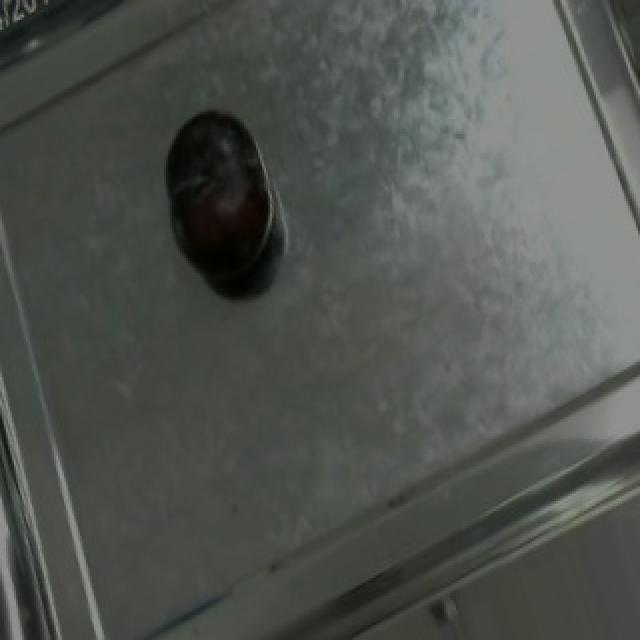Fruit: (144, 89, 288, 293)
